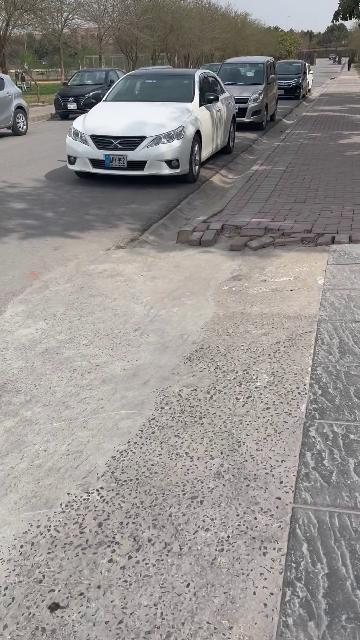plate: (104, 154, 127, 167)
